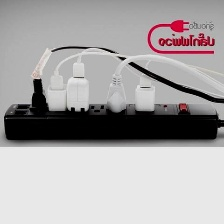three_eye_plug: (0, 100, 224, 144)
